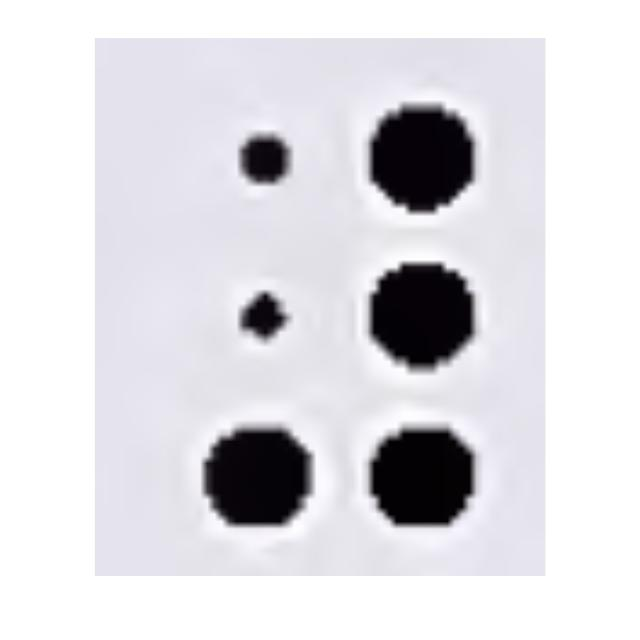at: (197, 96, 477, 528)
